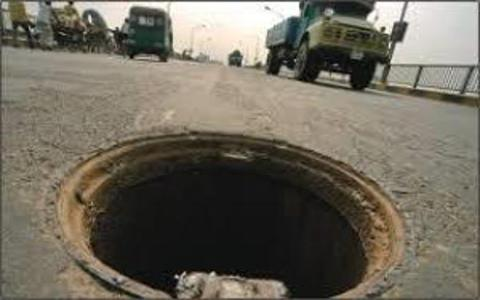open manhole: (1, 98, 452, 298)
